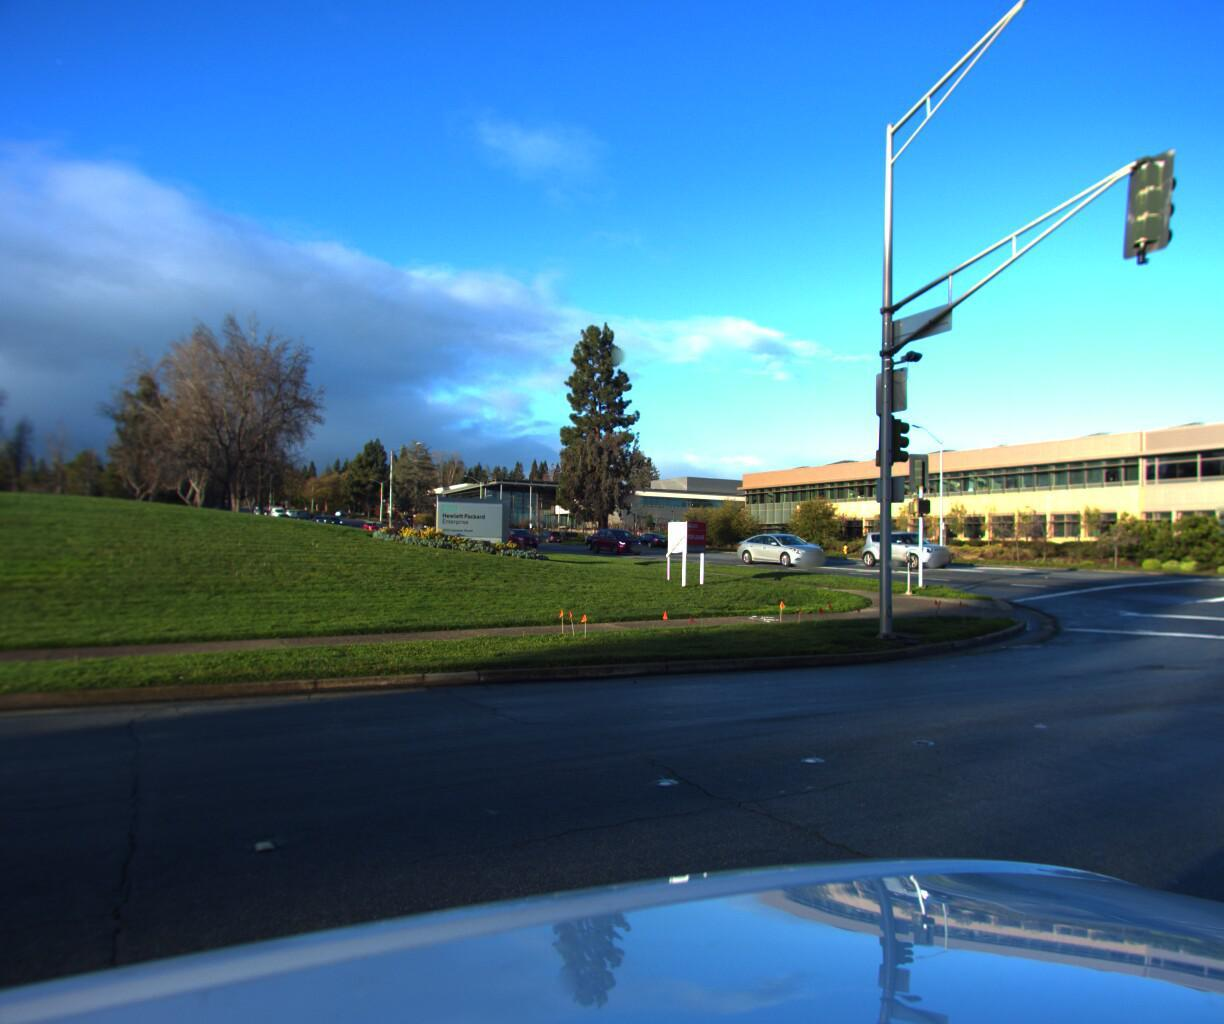car: (855, 528, 956, 568), (732, 528, 828, 564), (588, 527, 645, 554), (500, 527, 543, 548)
